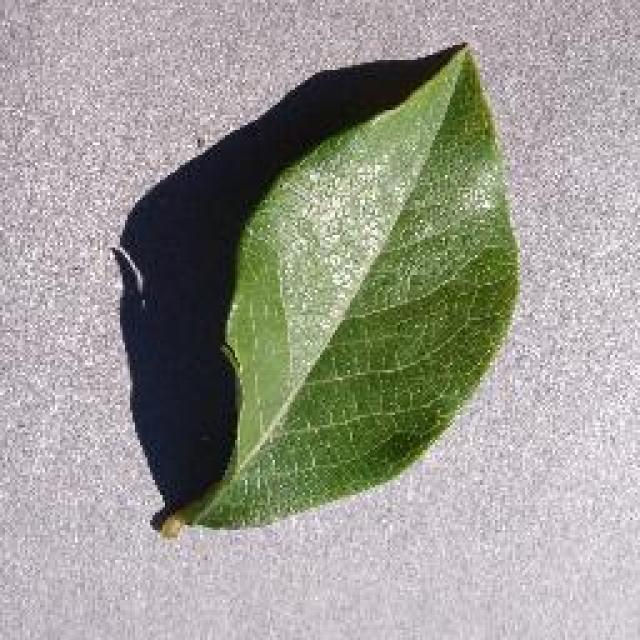Blu_healthy: (233, 76, 516, 506)
